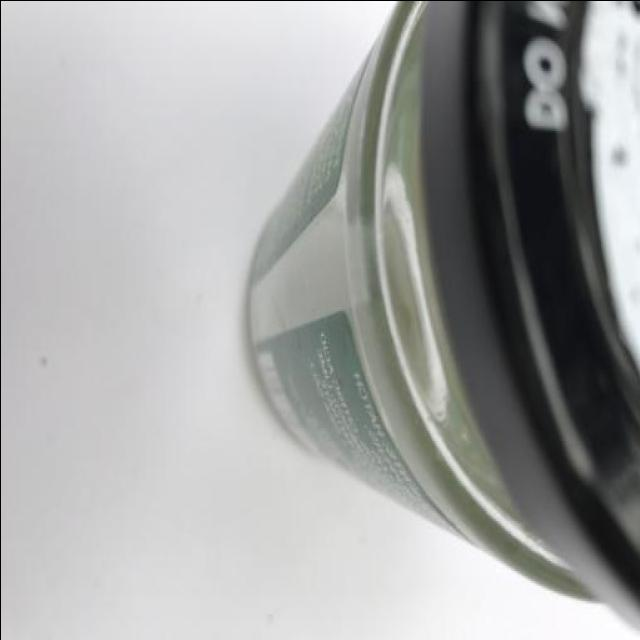glass: (247, 0, 640, 639)
